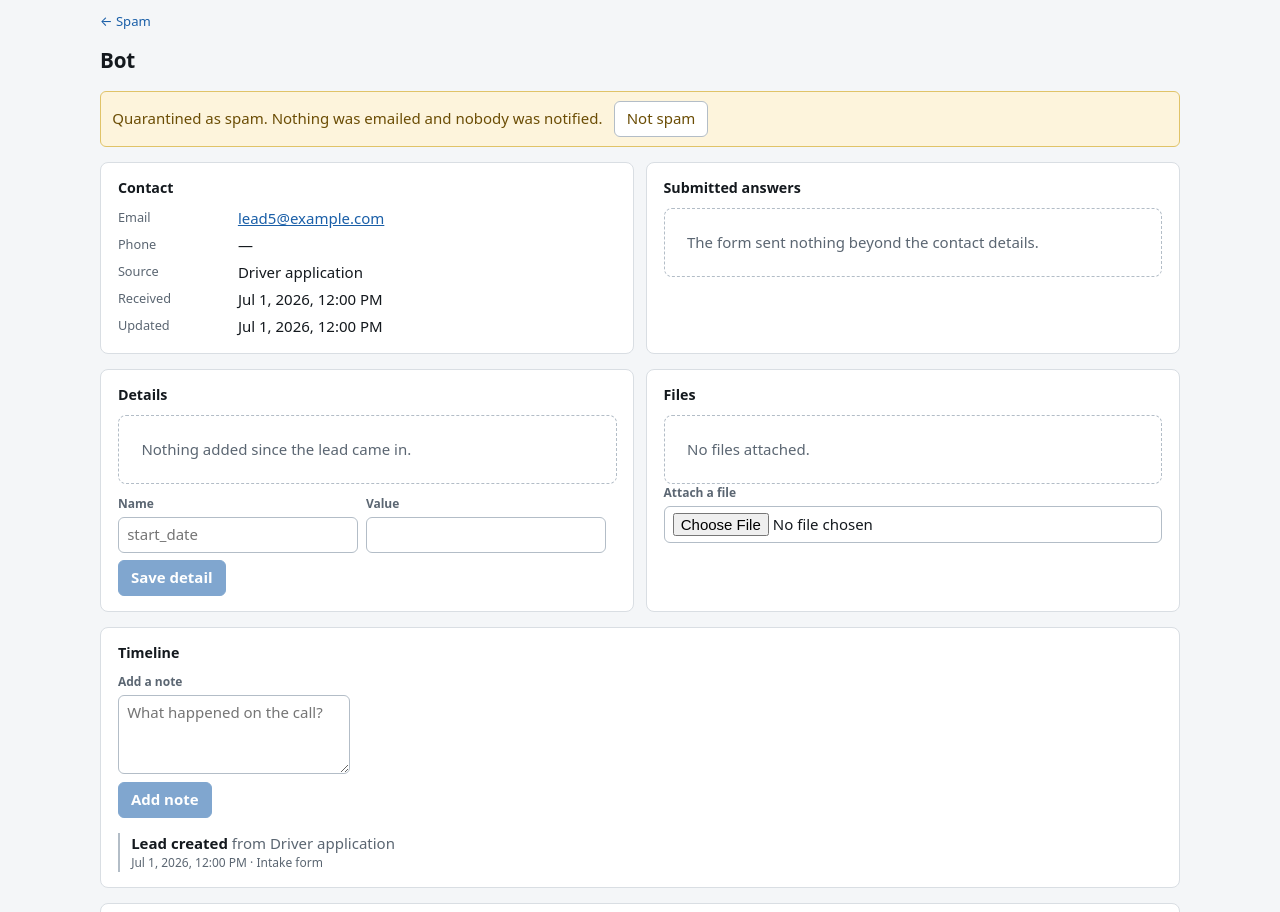
LeadDetail › promotes a quarantined lead and drops the spam banner
Click the button "Not spam".
click(661, 119)  # box left=614, top=101, right=708, bottom=137
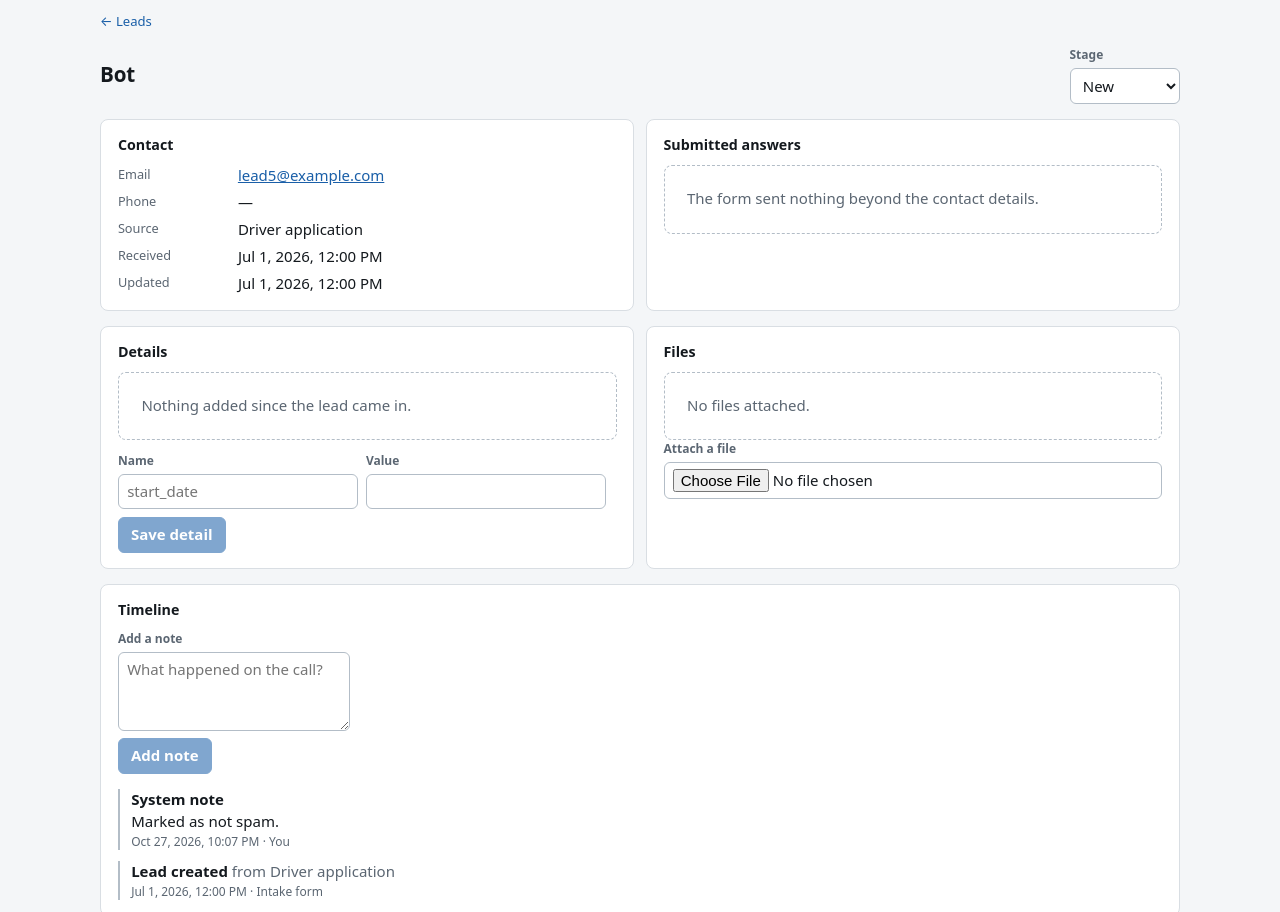
Result: the text "System note" is shown at left=131, top=789, right=224, bottom=809
